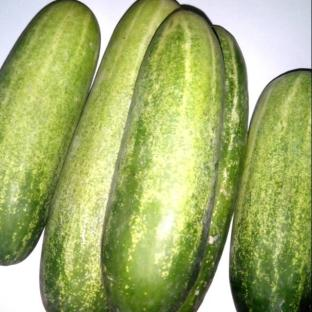Cucumber: (41, 0, 178, 311), (102, 11, 225, 311), (0, 0, 99, 265), (179, 26, 248, 311), (231, 71, 311, 311)
